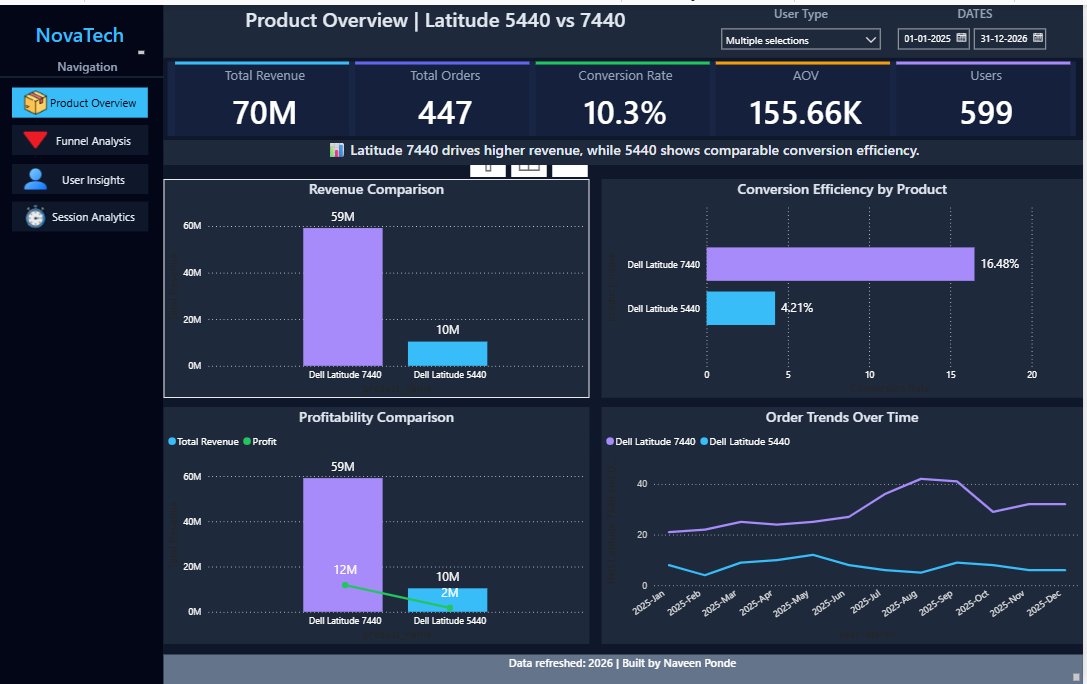

What the dashboard file says about the page in this screenshot:
{"tool":"powerbi","page":{"name":"Product overview","canvas":[1440,900],"ordinal":0},"visuals":[{"type":"shape","box":[0,0,220,900],"z":0},{"type":"textbox","title":"NovaTech","box":[20,20,180,50.2],"z":1000},{"type":"textbox","title":"Navigation","box":[20,70,200,50],"z":2000},{"type":"shape","box":[220,0,1220,70],"z":3000},{"type":"shape","title":"Data refreshed: 2026 | Built by Naveen Ponde","box":[220.7,860.9,1218.8,39.8],"z":4000},{"type":"textbox","title":"Data refreshed: 2026 | Built by Naveen Ponde","box":[218.7,860.9,1220.8,39.8],"z":5000},{"type":"textbox","title":"Product Overview | Latitude 5440 vs 7440","box":[324.1,0,526.9,69.6],"z":6000},{"type":"actionButton","title":"Product Overview","box":[20,110,180,40],"z":7000},{"type":"actionButton","title":"Product Overview","box":[20,160,180.9,39.8],"z":8000},{"type":"actionButton","title":"Product Overview","box":[20,210,180.9,39.8],"z":9000},{"type":"actionButton","title":"Product Overview","box":[20,260,180.9,39.8],"z":10000},{"type":"slicer","title":"User Type","fields":{"Values":["users.user_segment"]},"box":[950,0,230.6,69.6],"z":11000},{"type":"slicer","title":"DATES","fields":{"Values":["DateTable.Date"]},"box":[1181,0,230.6,69.6],"z":12000},{"type":"shape","box":[0,81.5,220.7,27.8],"z":13000},{"type":"cardVisual","fields":{"Data":["orders.Total Revenue","orders.Total Orders","orders.Conversion Rate","orders.AOV","Count(users.user_id)"]},"box":[220.7,69.6,1218.8,109.4],"z":14000},{"type":"columnChart","title":"Revenue Comparison","fields":{"Category":["products.product_name"],"Y":["orders.Total Revenue"]},"box":[220.7,230.6,564.7,290.3],"z":15000},{"type":"barChart","title":"Conversion Efficiency by Product","fields":{"Category":["products.product_name"],"Y":["orders.Conversion Rate"]},"box":[801.3,230.6,638.2,290.3],"z":16000},{"type":"lineClusteredColumnComboChart","title":"Profitability Comparison","fields":{"Y2":["Sum(orders.profit)"],"Category":["orders.product_name"],"Y":["orders.Total Revenue"]},"box":[220.7,532.9,564.7,314.1],"z":17000},{"type":"lineChart","title":"Order Trends Over Time","fields":{"Category":["DateTable.Year-Month"],"Y":["orders.orders_7440","orders.orders_5440"]},"box":[801.3,532.9,638.2,314.1],"z":18000},{"type":"textbox","title":"📊 Latitude 7440 drives higher revenue, while 5440 shows comparable conversion efficiency.","box":[220.7,178.9,1218.8,31.8],"z":19000}]}

Visuals, with their boxes in screenshot pixels (x1, y1, x2, y2), scaled from the page's 1440x900 canvas onto the 1087x684 screenshot:
shape: (0,0,166,683)
"NovaTech" textbox: (15,15,151,53)
"Navigation" textbox: (15,53,166,91)
shape: (166,0,1086,53)
"Data refreshed: 2026 | Built by Naveen Ponde" shape: (167,654,1086,683)
"Data refreshed: 2026 | Built by Naveen Ponde" textbox: (165,654,1086,683)
"Product Overview | Latitude 5440 vs 7440" textbox: (245,0,642,53)
"Product Overview" actionButton: (15,84,151,114)
"Product Overview" actionButton: (15,122,152,152)
"Product Overview" actionButton: (15,160,152,190)
"Product Overview" actionButton: (15,198,152,228)
"User Type" slicer: (717,0,891,53)
"DATES" slicer: (891,0,1066,53)
shape: (0,62,167,83)
cardVisual - orders.Total Revenue x orders.Total Orders: (167,53,1086,136)
"Revenue Comparison" columnChart: (167,175,593,396)
"Conversion Efficiency by Product" barChart: (605,175,1086,396)
"Profitability Comparison" lineClusteredColumnComboChart: (167,405,593,644)
"Order Trends Over Time" lineChart: (605,405,1086,644)
"📊 Latitude 7440 drives higher revenue, while 5440 shows comparable conversion efficiency." textbox: (167,136,1086,160)
